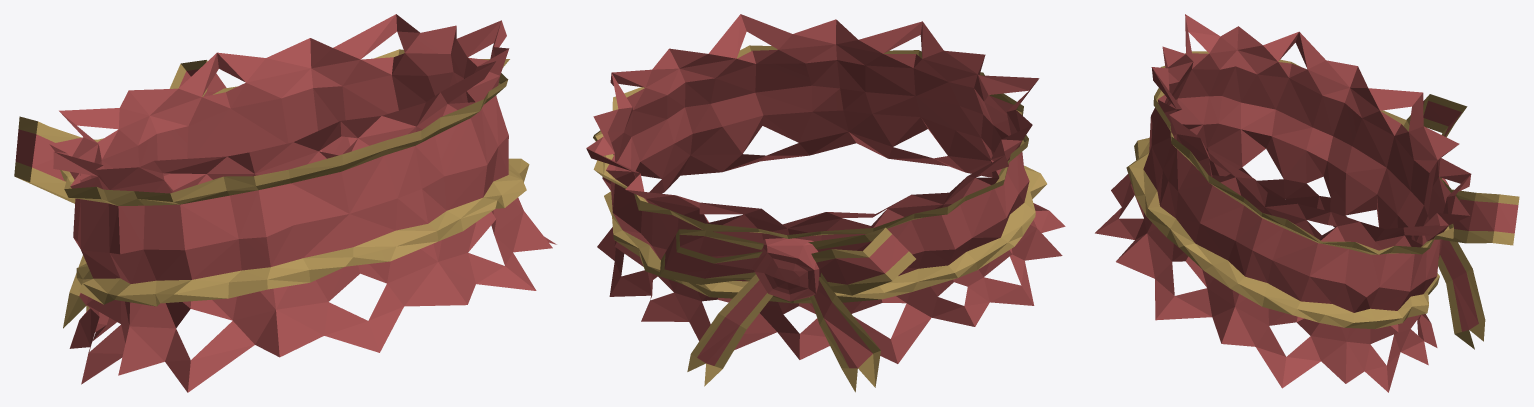
File: trinketRainyDay.fbx
3 views of the same model, side by side, from view 1: azimuth 30°, elevation 25°; view 2: azimuth 150°, elevation 25°; view 3: azimuth 270°, elevation 25° (orthographic). The views are drawn at different scales.
Visible parts, largest first — view 1: trinketRainyDay; view 2: trinketRainyDay; view 3: trinketRainyDay.
Part boxes in pixels (x1,y1,x2,y2): trinketRainyDay: [14, 14, 556, 392]; trinketRainyDay: [586, 14, 1065, 392]; trinketRainyDay: [1095, 14, 1519, 392].
Size of the model in its own units: 1.64 by 1.01 by 1.52.
